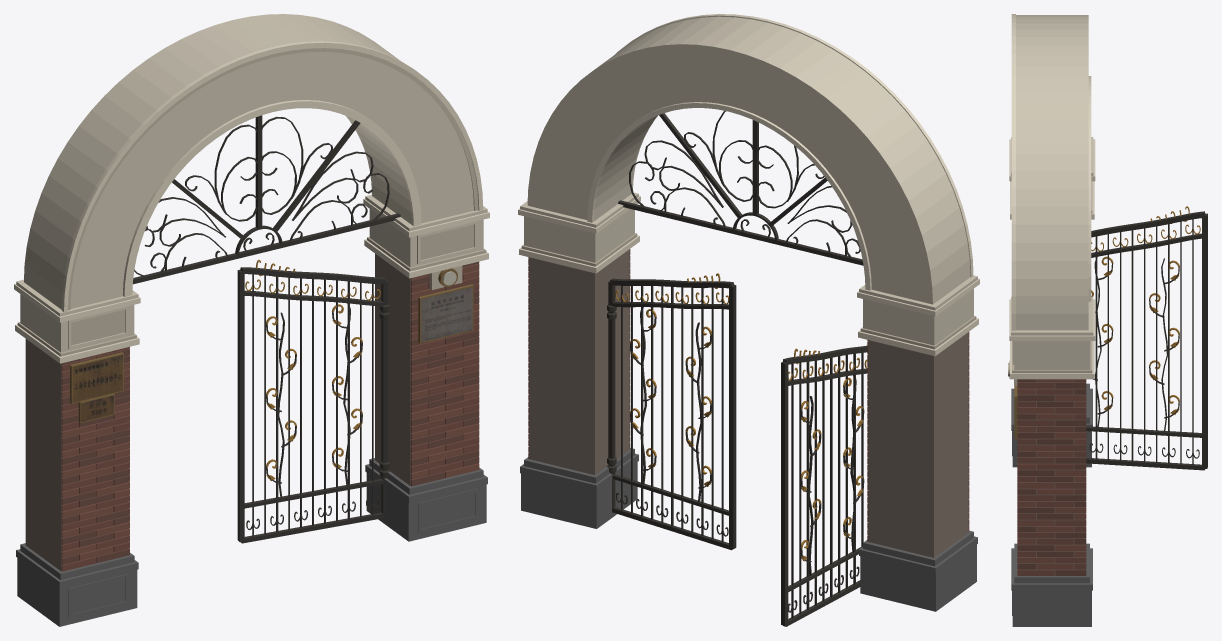
The model's file is jingan-gong-residence-jiaozhou-gate-lod.glb.
The picture shows the model from 3 angles, left to right: view 1: azimuth 30°, elevation 25°; view 2: azimuth 150°, elevation 25°; view 3: azimuth 270°, elevation 25°; orthographic projection. The views are drawn at different scales.
Visible parts, largest first — view 1: 龚氏花园住宅胶州路522号拱门; view 2: 龚氏花园住宅胶州路522号拱门; view 3: 龚氏花园住宅胶州路522号拱门.
Part boxes in pixels (box(x1,y1,x2,y2)): 龚氏花园住宅胶州路522号拱门: box(14, 14, 489, 626); 龚氏花园住宅胶州路522号拱门: box(518, 14, 979, 626); 龚氏花园住宅胶州路522号拱门: box(1008, 14, 1207, 626).
Size of the model in its own units: 5.53 by 6.47 by 2.37.
Materials: 16 (3 with a texture image).
